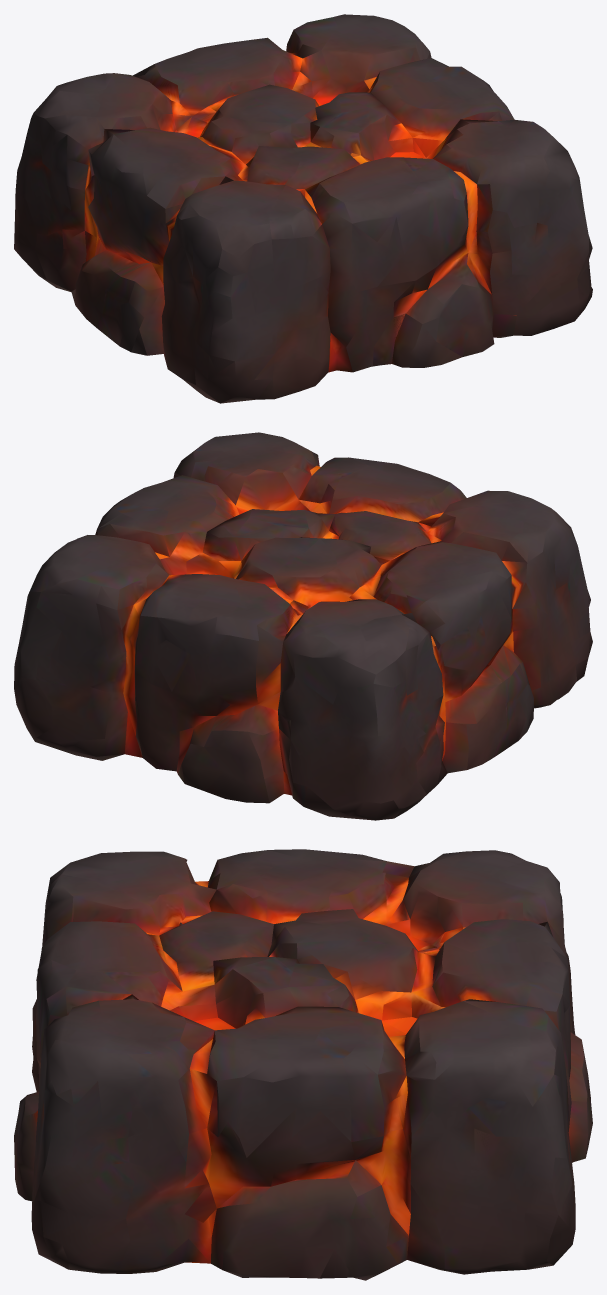
The model's file is volcan_rocas.glb.
3 views of the same model, one above another, from view 1: azimuth 30°, elevation 25°; view 2: azimuth 150°, elevation 25°; view 3: azimuth 270°, elevation 25° (orthographic). The views are drawn at different scales.
Visible parts, largest first — view 1: tripo_node_e8ac61b7-941a-4396-bdef-a6d5c9498ee1; view 2: tripo_node_e8ac61b7-941a-4396-bdef-a6d5c9498ee1; view 3: tripo_node_e8ac61b7-941a-4396-bdef-a6d5c9498ee1.
Boxes of the visible parts, <box> form: tripo_node_e8ac61b7-941a-4396-bdef-a6d5c9498ee1: <box>14,14,592,403</box>; tripo_node_e8ac61b7-941a-4396-bdef-a6d5c9498ee1: <box>14,432,592,820</box>; tripo_node_e8ac61b7-941a-4396-bdef-a6d5c9498ee1: <box>14,849,592,1280</box>.
Bounding box in the file's own units: 0.9891 × 0.4066 × 0.9917.
1 material, 1 textured.
